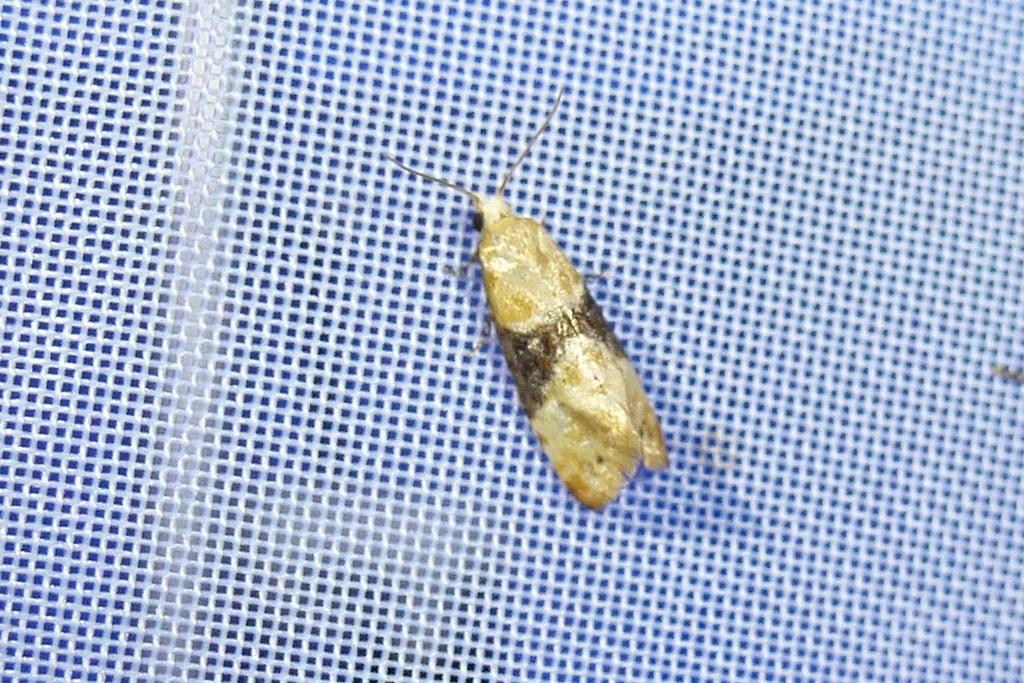Eupoecilia Ambiguella: (381, 83, 672, 513)
